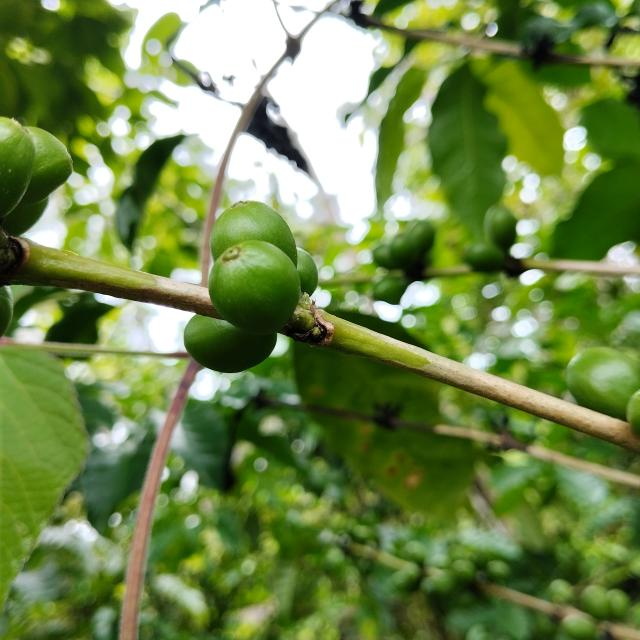green: (208, 240, 301, 335), (210, 201, 298, 266), (184, 315, 277, 373), (18, 126, 72, 205), (0, 116, 34, 218), (297, 247, 318, 295)
